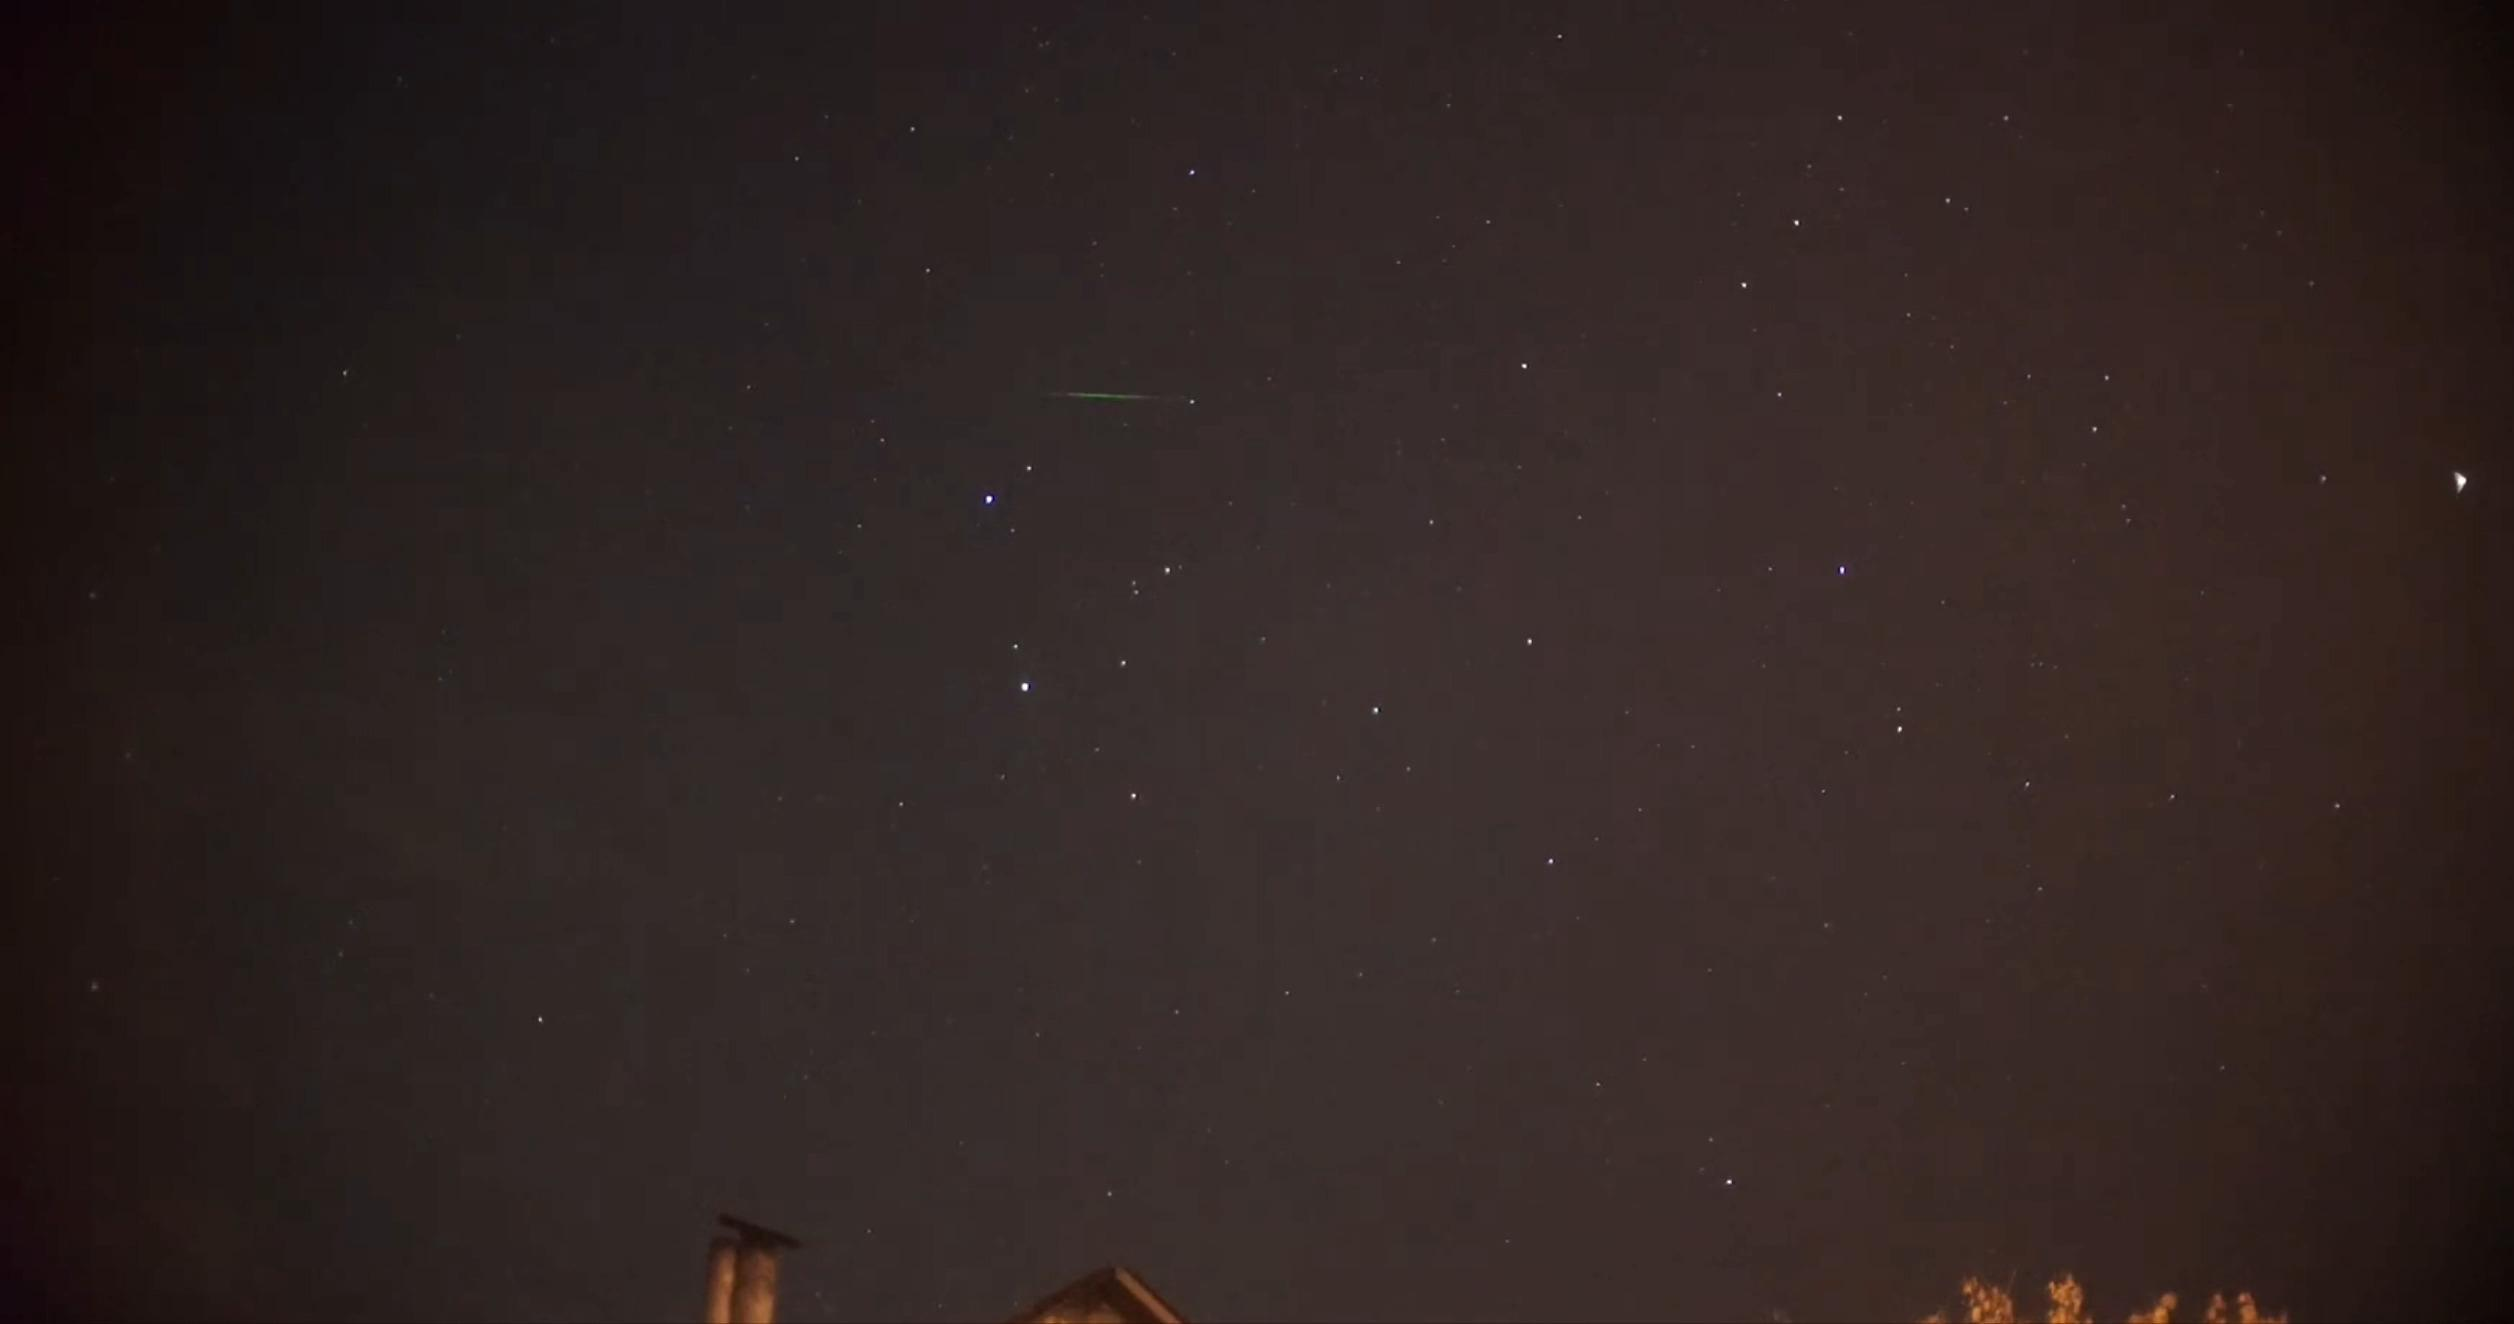meteorite: (1029, 378, 1187, 414)
